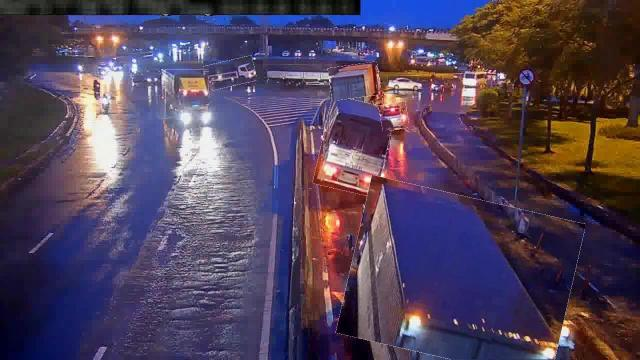Car: (379, 102, 408, 130), (388, 76, 424, 92)
Truck: (344, 186, 578, 360), (317, 98, 391, 194), (165, 69, 209, 113), (328, 64, 379, 100), (204, 58, 256, 88)
